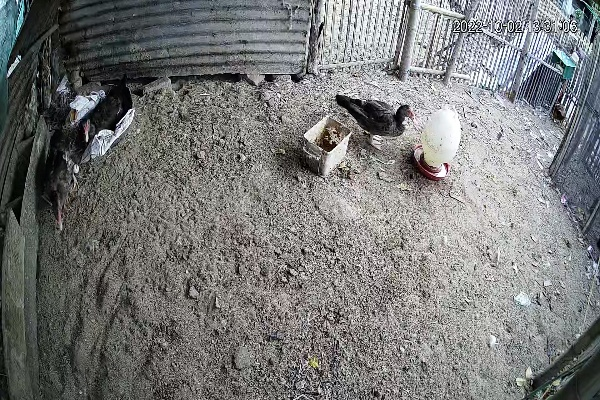Entog: (329, 89, 418, 153), (548, 86, 570, 125)
